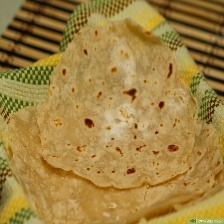roti: (0, 12, 223, 222)
